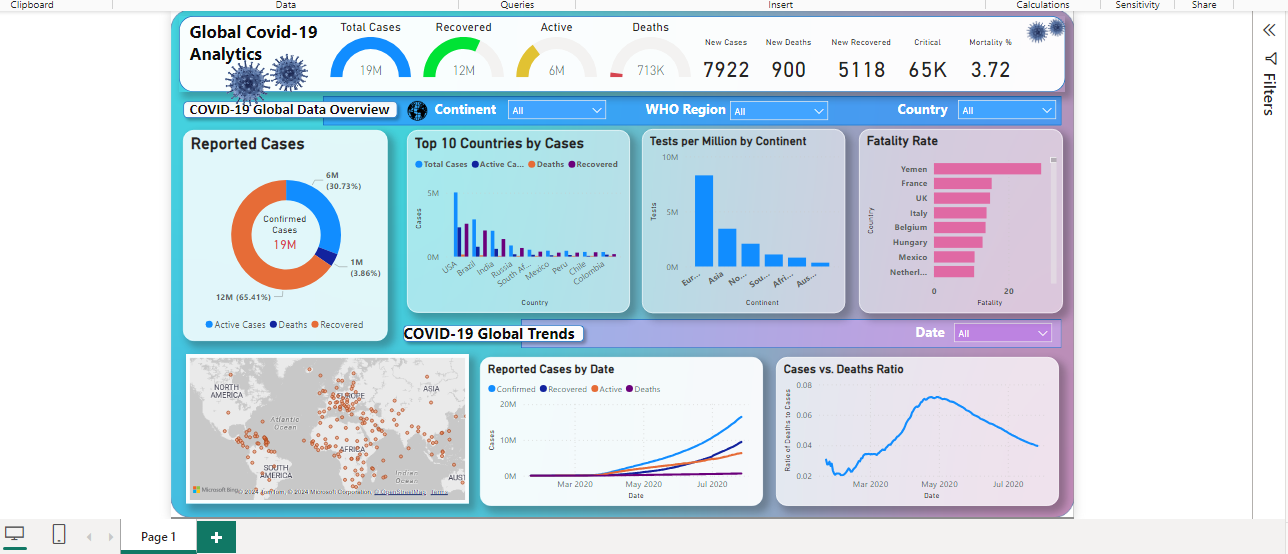

Layout of this report page (visuals, bound fields, positions):
{"tool":"powerbi","page":{"name":"Page 1","canvas":[1280,720],"ordinal":0},"visuals":[{"type":"donutChart","title":"Reported Cases","fields":{"Y":["worldometer_data.Active Case","worldometer_data.Deaths","worldometer_data.Recovered"]},"box":[16.7,168.1,290.3,298.6],"z":0},{"type":"shape","box":[495.9,436.6,766.2,41.4],"z":1000},{"type":"shape","box":[215.2,120.3,1046.8,41.8],"z":2000},{"type":"shape","box":[8.6,118.6,321.4,41.4],"z":3000},{"type":"shape","box":[11.2,7.5,1256.2,107.5],"z":4000},{"type":"map","fields":{"Category":["worldometer_data.Country/Region"]},"box":[21.7,485.5,401.4,211.6],"z":5000},{"type":"gauge","title":"Total Cases","fields":{"Y":["Sum(worldometer_data.TotalCases)"]},"box":[216.7,12.4,132.2,86.2],"z":6000},{"type":"gauge","title":"Active","fields":{"Y":["Sum(worldometer_data.ActiveCases)"]},"box":[481,12.4,132.2,86.2],"z":7000},{"type":"gauge","title":"Deaths","fields":{"Y":["Sum(worldometer_data.TotalDeaths)"]},"box":[613.2,12.4,132.2,86.2],"z":8000},{"type":"gauge","title":"Recovered","fields":{"Y":["Sum(worldometer_data.TotalRecovered)"]},"box":[348.9,12.4,132.2,86.2],"z":9000},{"type":"card","title":"New Cases","fields":{"Values":["Sum(worldometer_data.NewCases)"]},"box":[733.8,36.2,105,73.8],"z":10000},{"type":"card","title":"New Deaths","fields":{"Values":["Sum(worldometer_data.NewDeaths)"]},"box":[823.8,36.2,103.8,73.8],"z":11000},{"type":"card","title":"New Recovered","fields":{"Values":["Sum(worldometer_data.NewRecovered)"]},"box":[927.5,36.2,102.5,73.8],"z":12000},{"type":"slicer","fields":{"Values":["worldometer_data.Continent"]},"box":[467.4,116.6,158.9,45.7],"z":13000},{"type":"card","title":"Critical","fields":{"Values":["Sum(worldometer_data.Serious,Critical)"]},"box":[1020,37.5,103.8,72.5],"z":14000},{"type":"card","title":"Confirmed Cases","fields":{"Values":["Sum(worldometer_data.TotalCases)"]},"box":[116.7,287.5,90.3,61.1],"z":15000},{"type":"lineChart","title":"Reported Cases by Date","fields":{"Category":["full_grouped.Date.Variation.Date Hierarchy.Year"],"Y":["Sum(full_grouped.Confirmed)","Sum(full_grouped.Recovered)","Sum(full_grouped.Active)","Sum(full_grouped.Deaths)"]},"box":[438.6,490,401.4,211.4],"z":16000},{"type":"clusteredColumnChart","title":"Top 10 Countries by Cases","fields":{"Category":["worldometer_data.Country/Region"],"Y":["Sum(worldometer_data.TotalCases)","worldometer_data.Active Cases","worldometer_data.Deaths","worldometer_data.Recovered"]},"box":[334.8,168.1,315.9,259.4],"z":17000},{"type":"card","title":"Mortality %","fields":{"Values":["worldometer_data.FatalityRate"]},"box":[1110,36.2,103.8,72.5],"z":18000},{"type":"image","box":[52.5,30,163.8,136.2],"z":19000},{"type":"textbox","box":[21.2,7.5,198.8,80],"z":20000},{"type":"image","box":[1198.6,0,81.9,55.6],"z":21000},{"type":"textbox","box":[21.4,120,314.3,41.4],"z":22000},{"type":"image","box":[330.4,120.7,38,42.4],"z":23000},{"type":"textbox","box":[368.5,120.7,112,68],"z":24000},{"type":"slicer","fields":{"Values":["worldometer_data.WHO Region"]},"box":[781.7,117.1,158.9,44.6],"z":25000},{"type":"textbox","box":[668,120.7,144.4,59.8],"z":26000},{"type":"slicer","fields":{"Values":["worldometer_data.Country/Region"]},"box":[1105.5,116.6,158.7,45.5],"z":27000},{"type":"textbox","box":[1025.1,120.9,88.5,53.6],"z":28000},{"type":"shape","box":[319.6,437,274,41.1],"z":29000},{"type":"textbox","box":[324.9,437,261.1,42.6],"z":30000},{"type":"slicer","fields":{"Values":["full_grouped.Date"]},"box":[1099.8,432.3,158.7,45.5],"z":31000},{"type":"textbox","box":[1050,437.1,58.6,52.9],"z":32000},{"type":"lineChart","title":"Cases vs. Deaths Ratio","fields":{"Category":["full_grouped.Date"],"Y":["full_grouped.DeathToCaseRatio"]},"box":[857.1,490,401.4,211.4],"z":33000},{"type":"barChart","title":" Fatality Rate","fields":{"Category":["worldometer_data.Country/Region"],"Y":["Sum(worldometer_data.Fatality Rate)"]},"box":[975,166.7,288.9,261.1],"z":34000},{"type":"columnChart","title":"Tests per Million by Continent","fields":{"Y":["Sum(worldometer_data.Tests/1M pop)"],"Category":["worldometer_data.Continent"]},"box":[668.1,166.7,288.4,260.9],"z":35000}]}

Visuals, with their boxes on the page's 1280x720 design canvas (x1, y1, x2, y2). These are canvas units, not pixel positions in the 1288x554 screenshot, which may show the page scaled, cropped or inside an application window:
"Reported Cases" donutChart: {"left": 17, "top": 168, "right": 307, "bottom": 467}
shape: {"left": 496, "top": 437, "right": 1262, "bottom": 478}
shape: {"left": 215, "top": 120, "right": 1262, "bottom": 162}
shape: {"left": 9, "top": 119, "right": 330, "bottom": 160}
shape: {"left": 11, "top": 8, "right": 1267, "bottom": 115}
map - worldometer_data.Country/Region: {"left": 22, "top": 486, "right": 423, "bottom": 697}
"Total Cases" gauge: {"left": 217, "top": 12, "right": 349, "bottom": 99}
"Active" gauge: {"left": 481, "top": 12, "right": 613, "bottom": 99}
"Deaths" gauge: {"left": 613, "top": 12, "right": 745, "bottom": 99}
"Recovered" gauge: {"left": 349, "top": 12, "right": 481, "bottom": 99}
"New Cases" card: {"left": 734, "top": 36, "right": 839, "bottom": 110}
"New Deaths" card: {"left": 824, "top": 36, "right": 928, "bottom": 110}
"New Recovered" card: {"left": 928, "top": 36, "right": 1030, "bottom": 110}
slicer - worldometer_data.Continent: {"left": 467, "top": 117, "right": 626, "bottom": 162}
"Critical" card: {"left": 1020, "top": 38, "right": 1124, "bottom": 110}
"Confirmed Cases" card: {"left": 117, "top": 288, "right": 207, "bottom": 349}
"Reported Cases by Date" lineChart: {"left": 439, "top": 490, "right": 840, "bottom": 701}
"Top 10 Countries by Cases" clusteredColumnChart: {"left": 335, "top": 168, "right": 651, "bottom": 428}
"Mortality %" card: {"left": 1110, "top": 36, "right": 1214, "bottom": 109}
image: {"left": 52, "top": 30, "right": 216, "bottom": 166}
textbox: {"left": 21, "top": 8, "right": 220, "bottom": 88}
image: {"left": 1199, "top": 0, "right": 1280, "bottom": 56}
textbox: {"left": 21, "top": 120, "right": 336, "bottom": 161}
image: {"left": 330, "top": 121, "right": 368, "bottom": 163}
textbox: {"left": 368, "top": 121, "right": 480, "bottom": 189}
slicer - worldometer_data.WHO Region: {"left": 782, "top": 117, "right": 941, "bottom": 162}
textbox: {"left": 668, "top": 121, "right": 812, "bottom": 180}
slicer - worldometer_data.Country/Region: {"left": 1106, "top": 117, "right": 1264, "bottom": 162}
textbox: {"left": 1025, "top": 121, "right": 1114, "bottom": 174}
shape: {"left": 320, "top": 437, "right": 594, "bottom": 478}
textbox: {"left": 325, "top": 437, "right": 586, "bottom": 480}
slicer - full_grouped.Date: {"left": 1100, "top": 432, "right": 1258, "bottom": 478}
textbox: {"left": 1050, "top": 437, "right": 1109, "bottom": 490}
"Cases vs. Deaths Ratio" lineChart: {"left": 857, "top": 490, "right": 1258, "bottom": 701}
" Fatality Rate" barChart: {"left": 975, "top": 167, "right": 1264, "bottom": 428}
"Tests per Million by Continent" columnChart: {"left": 668, "top": 167, "right": 956, "bottom": 428}
